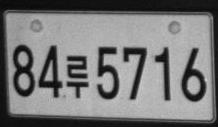1: (152, 45, 177, 102)
4: (37, 44, 62, 98)
5: (96, 46, 120, 100)
6: (180, 47, 207, 102)
7: (123, 46, 147, 100)
8: (12, 43, 35, 97)
루: (65, 54, 89, 99)
